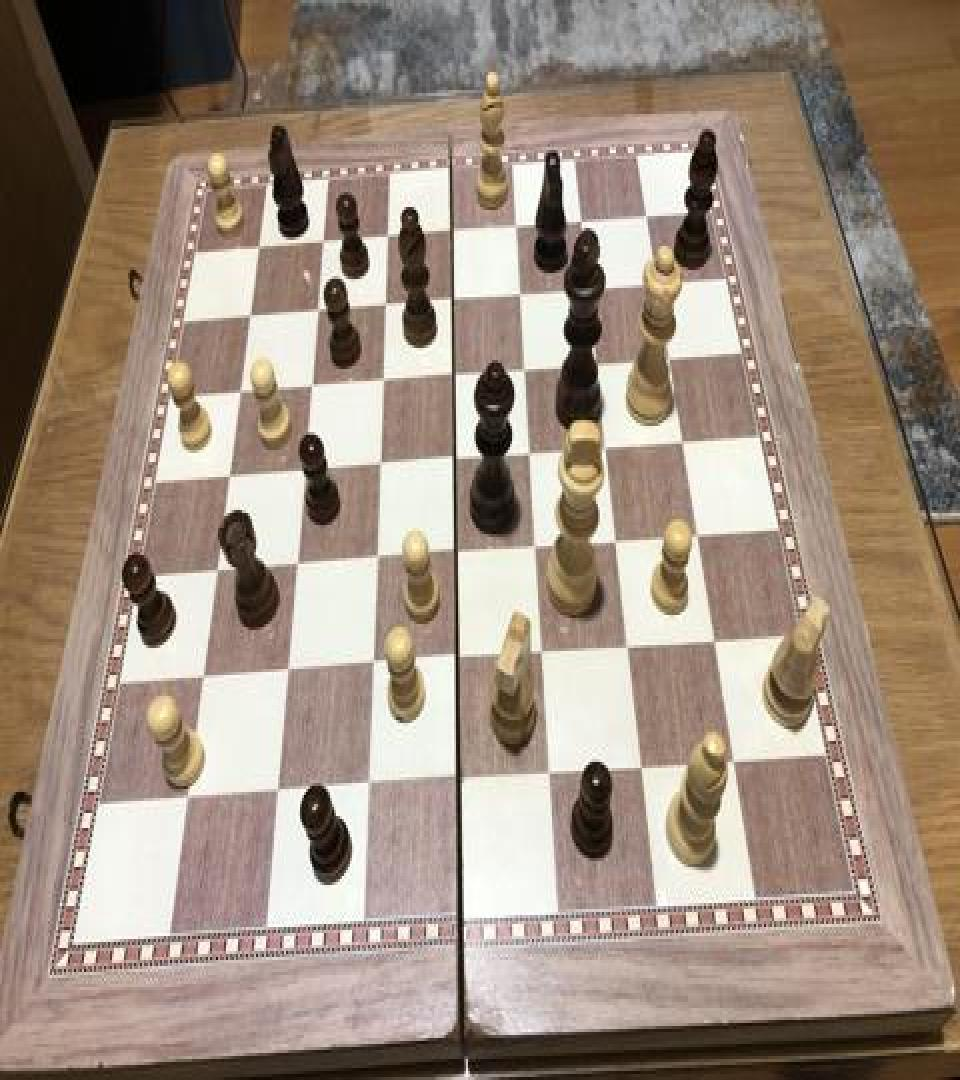xcorner: (706, 622, 730, 659), (448, 640, 472, 677), (363, 646, 387, 683), (277, 652, 301, 689), (725, 739, 749, 776), (176, 778, 200, 815), (637, 201, 661, 237), (507, 210, 531, 246), (376, 219, 400, 255), (311, 224, 335, 260), (245, 228, 269, 264), (648, 268, 672, 304), (579, 273, 603, 309), (511, 278, 535, 314), (442, 282, 466, 318), (374, 286, 398, 322), (305, 292, 329, 328), (236, 297, 260, 333), (660, 342, 684, 378), (588, 348, 612, 384), (516, 352, 540, 388), (444, 357, 468, 393), (371, 363, 395, 399), (299, 368, 323, 404), (227, 372, 251, 408), (674, 426, 698, 462), (521, 436, 545, 472), (445, 441, 469, 477), (369, 447, 393, 483), (292, 452, 316, 488), (216, 458, 240, 494), (689, 518, 713, 554), (608, 524, 632, 560), (527, 530, 551, 566), (447, 536, 471, 572), (366, 540, 390, 576), (285, 546, 309, 582), (204, 552, 228, 588), (620, 628, 644, 664), (534, 634, 558, 670), (191, 658, 215, 694), (633, 747, 657, 783), (542, 753, 566, 789), (450, 759, 474, 795), (359, 766, 383, 802), (267, 772, 291, 808), (572, 206, 596, 241), (441, 215, 465, 250), (597, 431, 621, 466)
